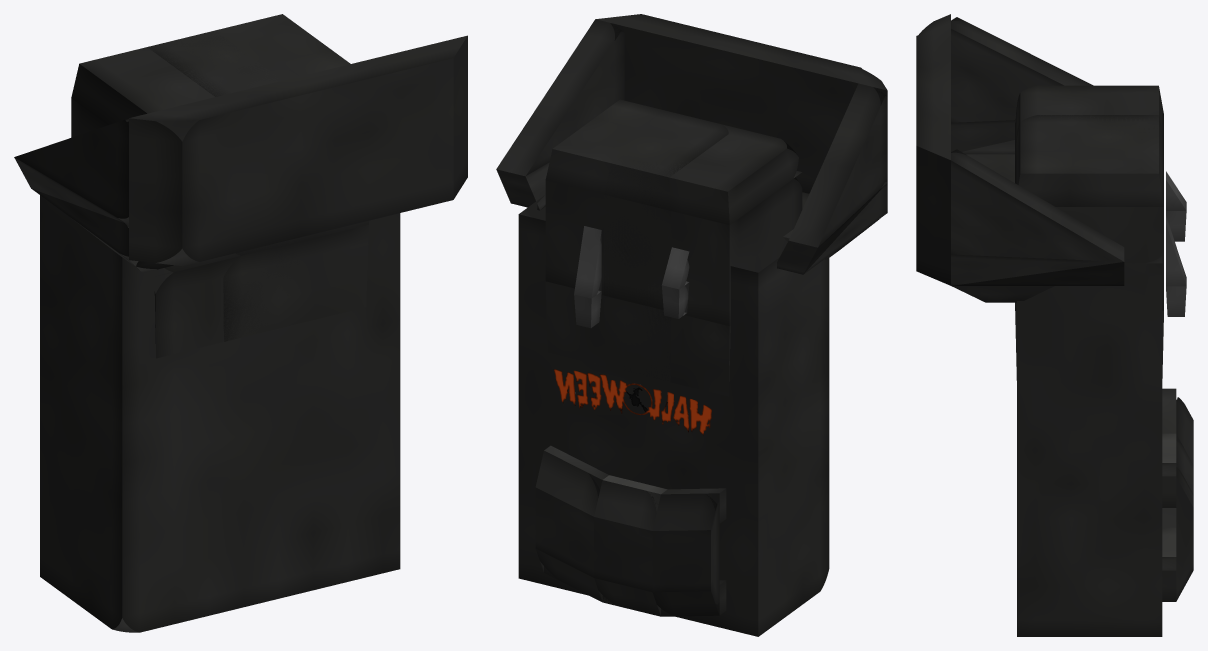
Rendered from hoodie8.obj.
The picture shows the model from 3 angles, left to right: view 1: azimuth 30°, elevation 25°; view 2: azimuth 150°, elevation 25°; view 3: azimuth 270°, elevation 25°; orthographic projection. The views are drawn at different scales.
Parts seen in each view (by area): view 1: bodyModel0, bodyModel17, leftArmModel1, leftArmModel2, rightArmModel2, rightArmModel1, bodyModel16, bodyModel19, rightArmModel0; view 2: bodyModel0, bodyModel17, rightArmModel0, leftArmModel2, leftArmModel0, rightArmModel2, bodyModel20, bodyModel16, rightArmModel1, bodyModel3, leftArmModel1, bodyModel4 (+10 smaller); view 3: bodyModel0, leftArmModel2, bodyModel20, bodyModel17, bodyModel16, bodyModel21, rightArmModel2, leftArmModel0, bodyModel19, bodyModel4, bodyModel18, bodyModel13 (+10 smaller).
Boxes of the visible parts, x1,y1,x2,y2 form: bodyModel0: (40, 195, 400, 632); bodyModel17: (129, 35, 467, 266); leftArmModel1: (223, 225, 368, 341); leftArmModel2: (147, 14, 350, 96); rightArmModel2: (71, 31, 277, 124); rightArmModel1: (154, 243, 298, 358); bodyModel16: (14, 119, 162, 224); bodyModel19: (14, 157, 128, 259); rightArmModel0: (71, 98, 293, 276); bodyModel0: (518, 195, 829, 636); bodyModel17: (596, 14, 887, 212); rightArmModel0: (604, 177, 802, 326); leftArmModel2: (545, 99, 728, 210); leftArmModel0: (545, 180, 671, 309); rightArmModel2: (605, 124, 801, 225); bodyModel20: (496, 19, 624, 176); bodyModel16: (789, 83, 887, 247); rightArmModel1: (604, 295, 730, 396); bodyModel3: (652, 493, 719, 616); leftArmModel1: (545, 281, 671, 382); bodyModel4: (535, 450, 602, 601); bodyModel0: (1017, 256, 1162, 636); leftArmModel2: (1015, 115, 1163, 206); bodyModel20: (951, 149, 1124, 261); bodyModel17: (916, 14, 950, 285); bodyModel16: (951, 17, 1093, 122); bodyModel21: (951, 254, 1124, 285); rightArmModel2: (1015, 85, 1163, 151); leftArmModel0: (1015, 207, 1163, 310); bodyModel19: (951, 120, 1014, 154); bodyModel4: (1176, 467, 1193, 601); bodyModel18: (951, 154, 1054, 302); bodyModel13: (1166, 216, 1186, 286).
Bounding box in the file's own units: 11 × 15.6 × 8.
